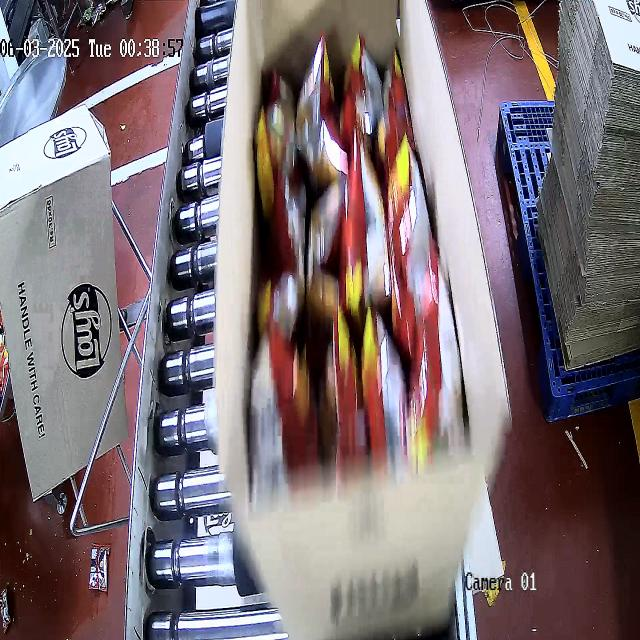MASALA: (250, 38, 450, 452)
